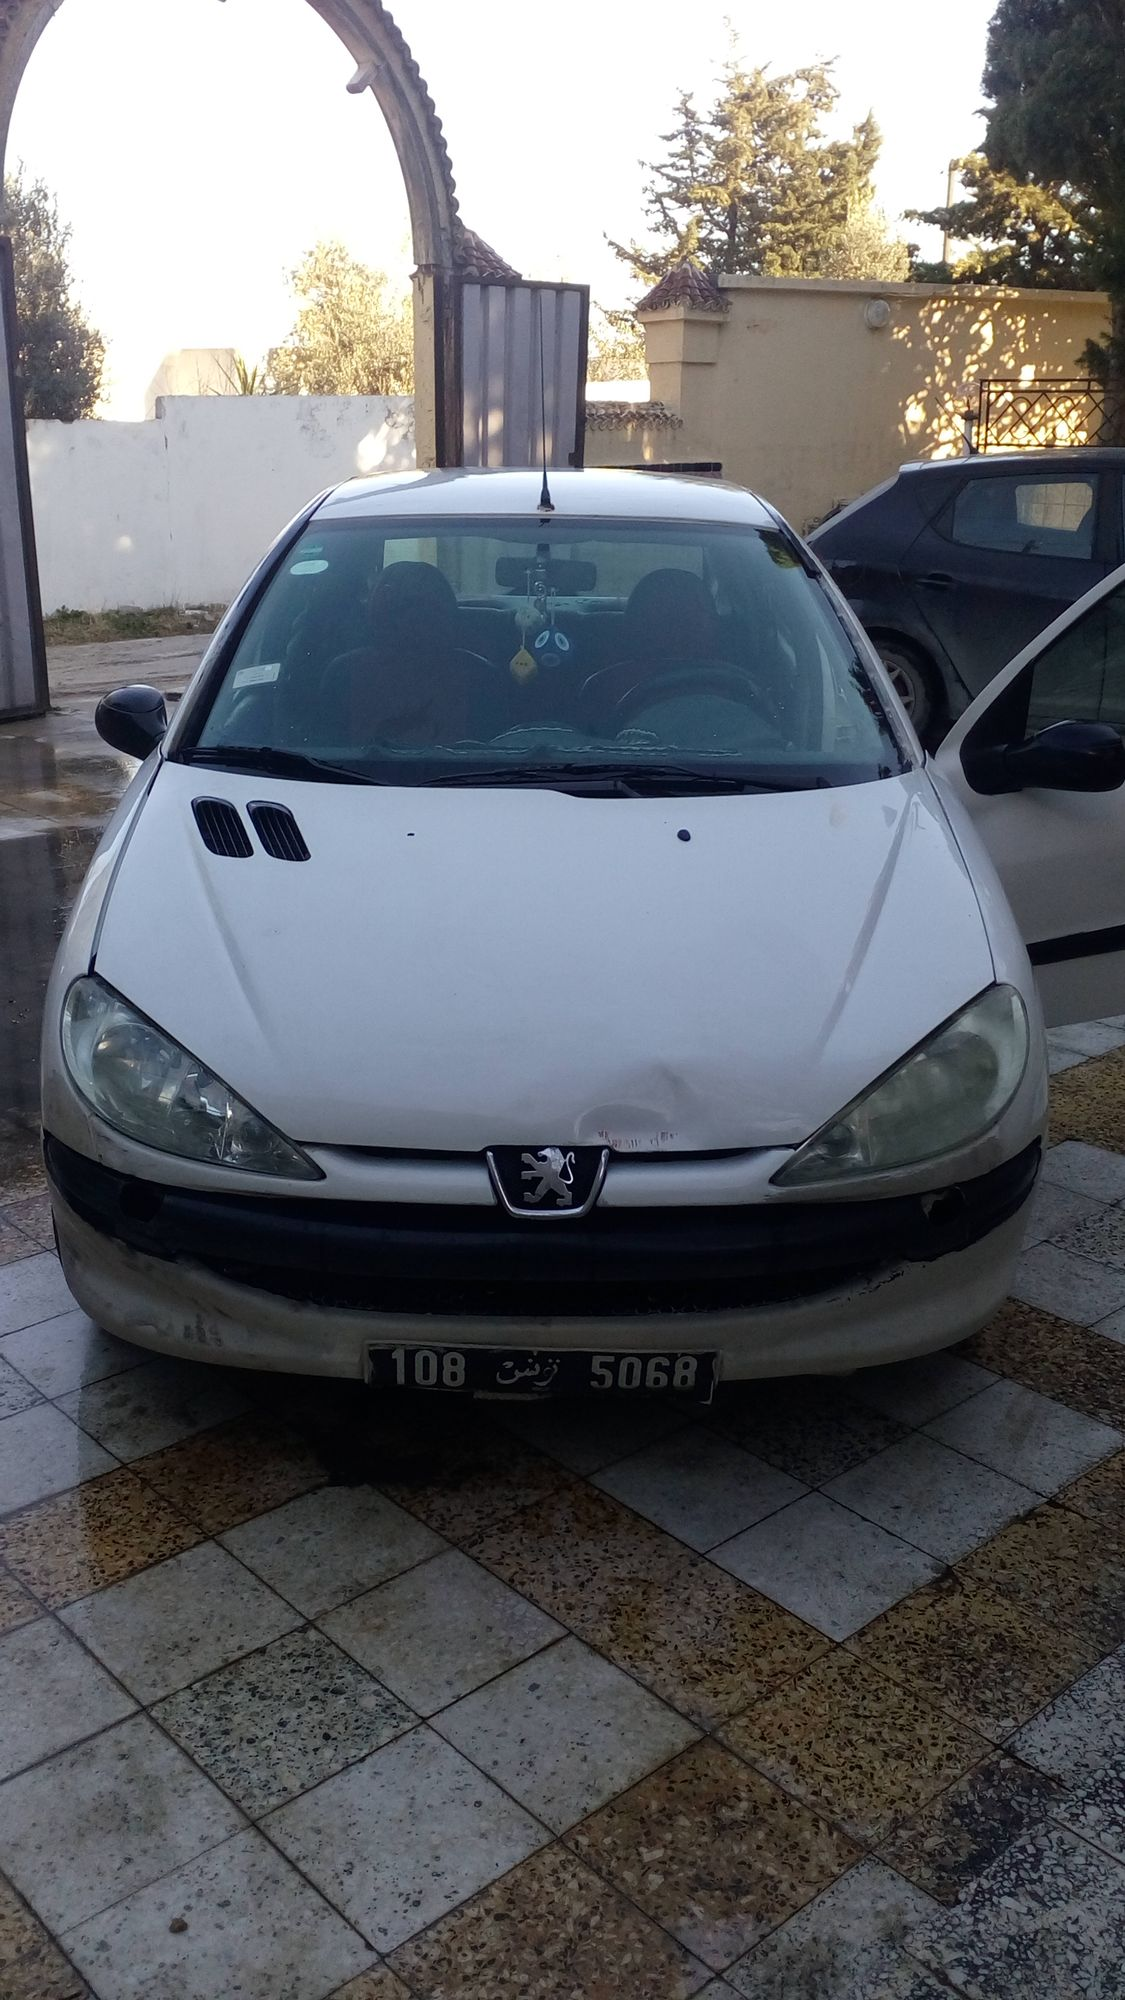LP: (356, 1344, 727, 1410)
